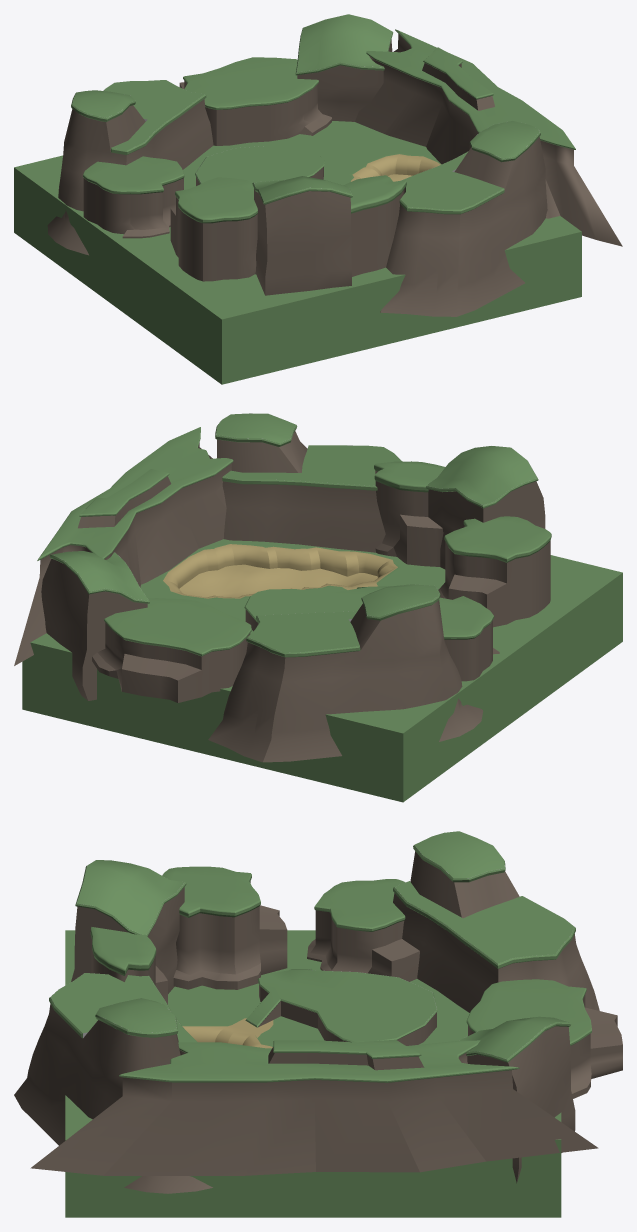
Rendered from map.fbx.
3 views of the same model, one above another, from view 1: azimuth 30°, elevation 25°; view 2: azimuth 150°, elevation 25°; view 3: azimuth 270°, elevation 25° (orthographic). The views are drawn at different scales.
Parts seen in each view (by area): view 1: pCube19, pCube13, pCube7, pCube9, pCube14, pCube11, pCube15, pCube12, pCube17, pCube16, pCube18; view 2: pCube19, pCube9, pCube13, pCube7, pCube11, pCube15, pCube12, pCube14, pCube16, pCube17, pCube18; view 3: pCube7, pCube19, pCube9, pCube13, pCube15, pCube18, pCube14, pCube17, pCube11, pCube12, pCube16.
Boxes of the visible parts, x1,y1,x2,y2 form: pCube19: (14,121,581,384); pCube13: (380,121,547,316); pCube7: (355,29,622,246); pCube9: (47,80,213,255); pCube14: (252,176,352,295); pCube11: (179,57,331,145); pCube15: (170,177,257,281); pCube12: (295,14,393,121); pCube17: (83,156,184,238); pCube16: (344,175,406,276); pCube18: (195,146,324,188); pCube19: (22,539,622,802); pCube9: (208,584,483,762); pCube13: (215,413,402,552); pCube7: (14,427,233,665); pCube11: (92,598,251,702); pCube15: (438,516,551,627); pCube12: (41,551,149,700); pCube14: (426,446,545,569); pCube16: (374,461,445,566); pCube17: (439,596,499,681); pCube18: (244,586,389,631); pCube7: (30,1039,598,1175); pCube19: (65,930,561,1217); pCube9: (393,831,599,1012); pCube13: (14,973,212,1193); pCube15: (162,866,287,989); pCube18: (245,968,437,1045); pCube14: (71,860,186,993); pCube17: (307,879,419,981); pCube11: (466,979,622,1098); pCube12: (459,1016,575,1183); pCube16: (90,927,167,1004).
Bounding box in the file's own units: 81.03 × 31.36 × 87.01.
